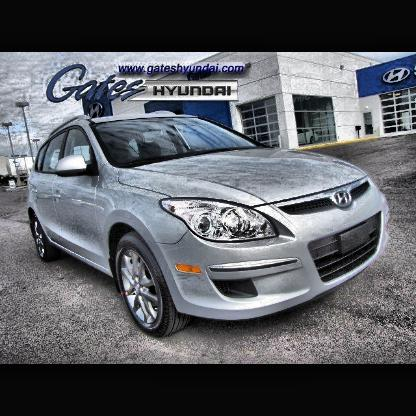Hyundai Elantra Touring Hatchback 2012: (27, 116, 400, 349)
